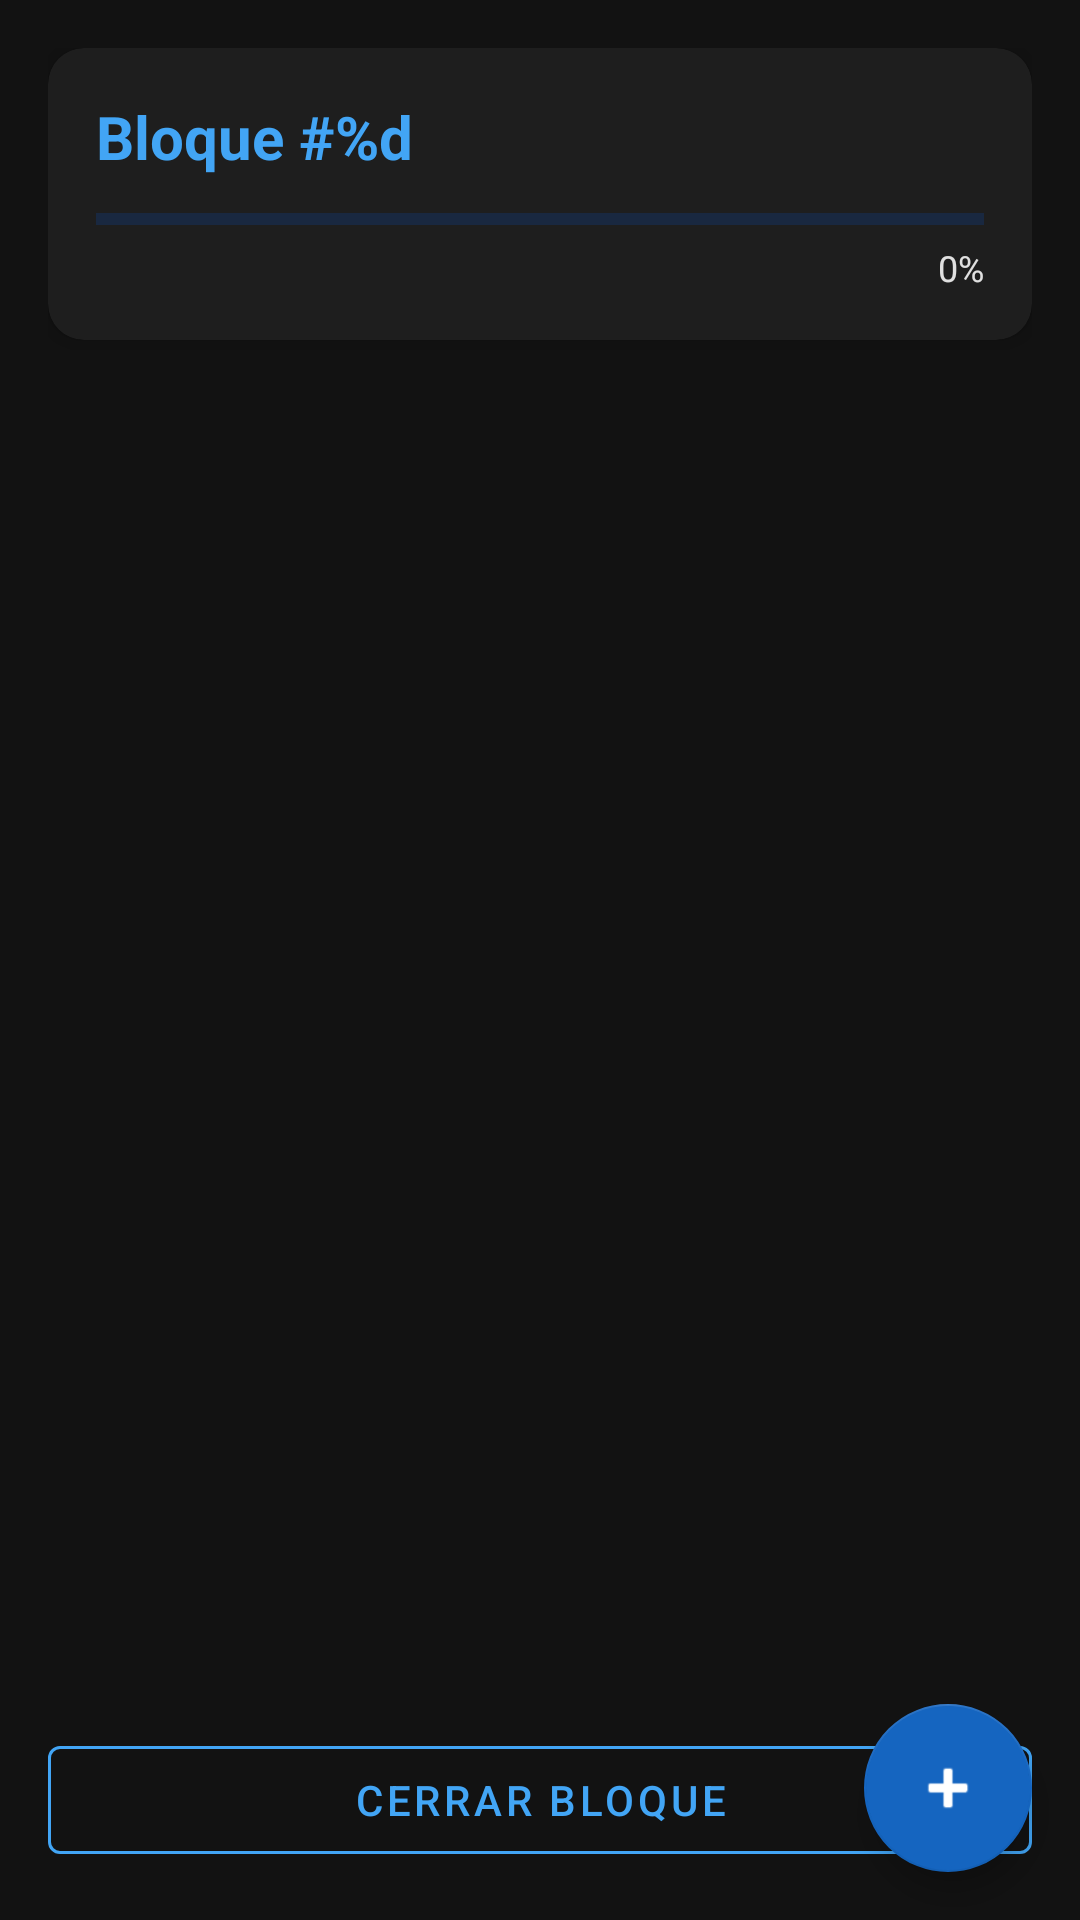

Named icons in this screenshot (1080px x 1920px) and their centers, point (x, y):
Nueva tarea: point (948, 1788)
